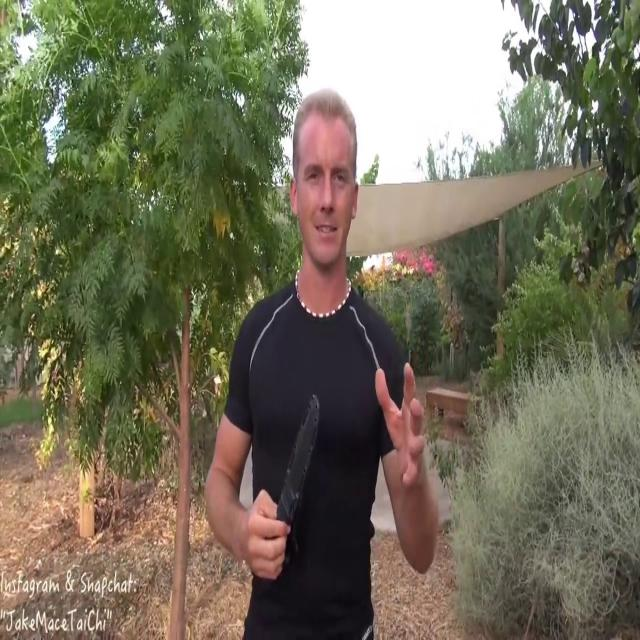knife: (280, 377, 328, 516)
